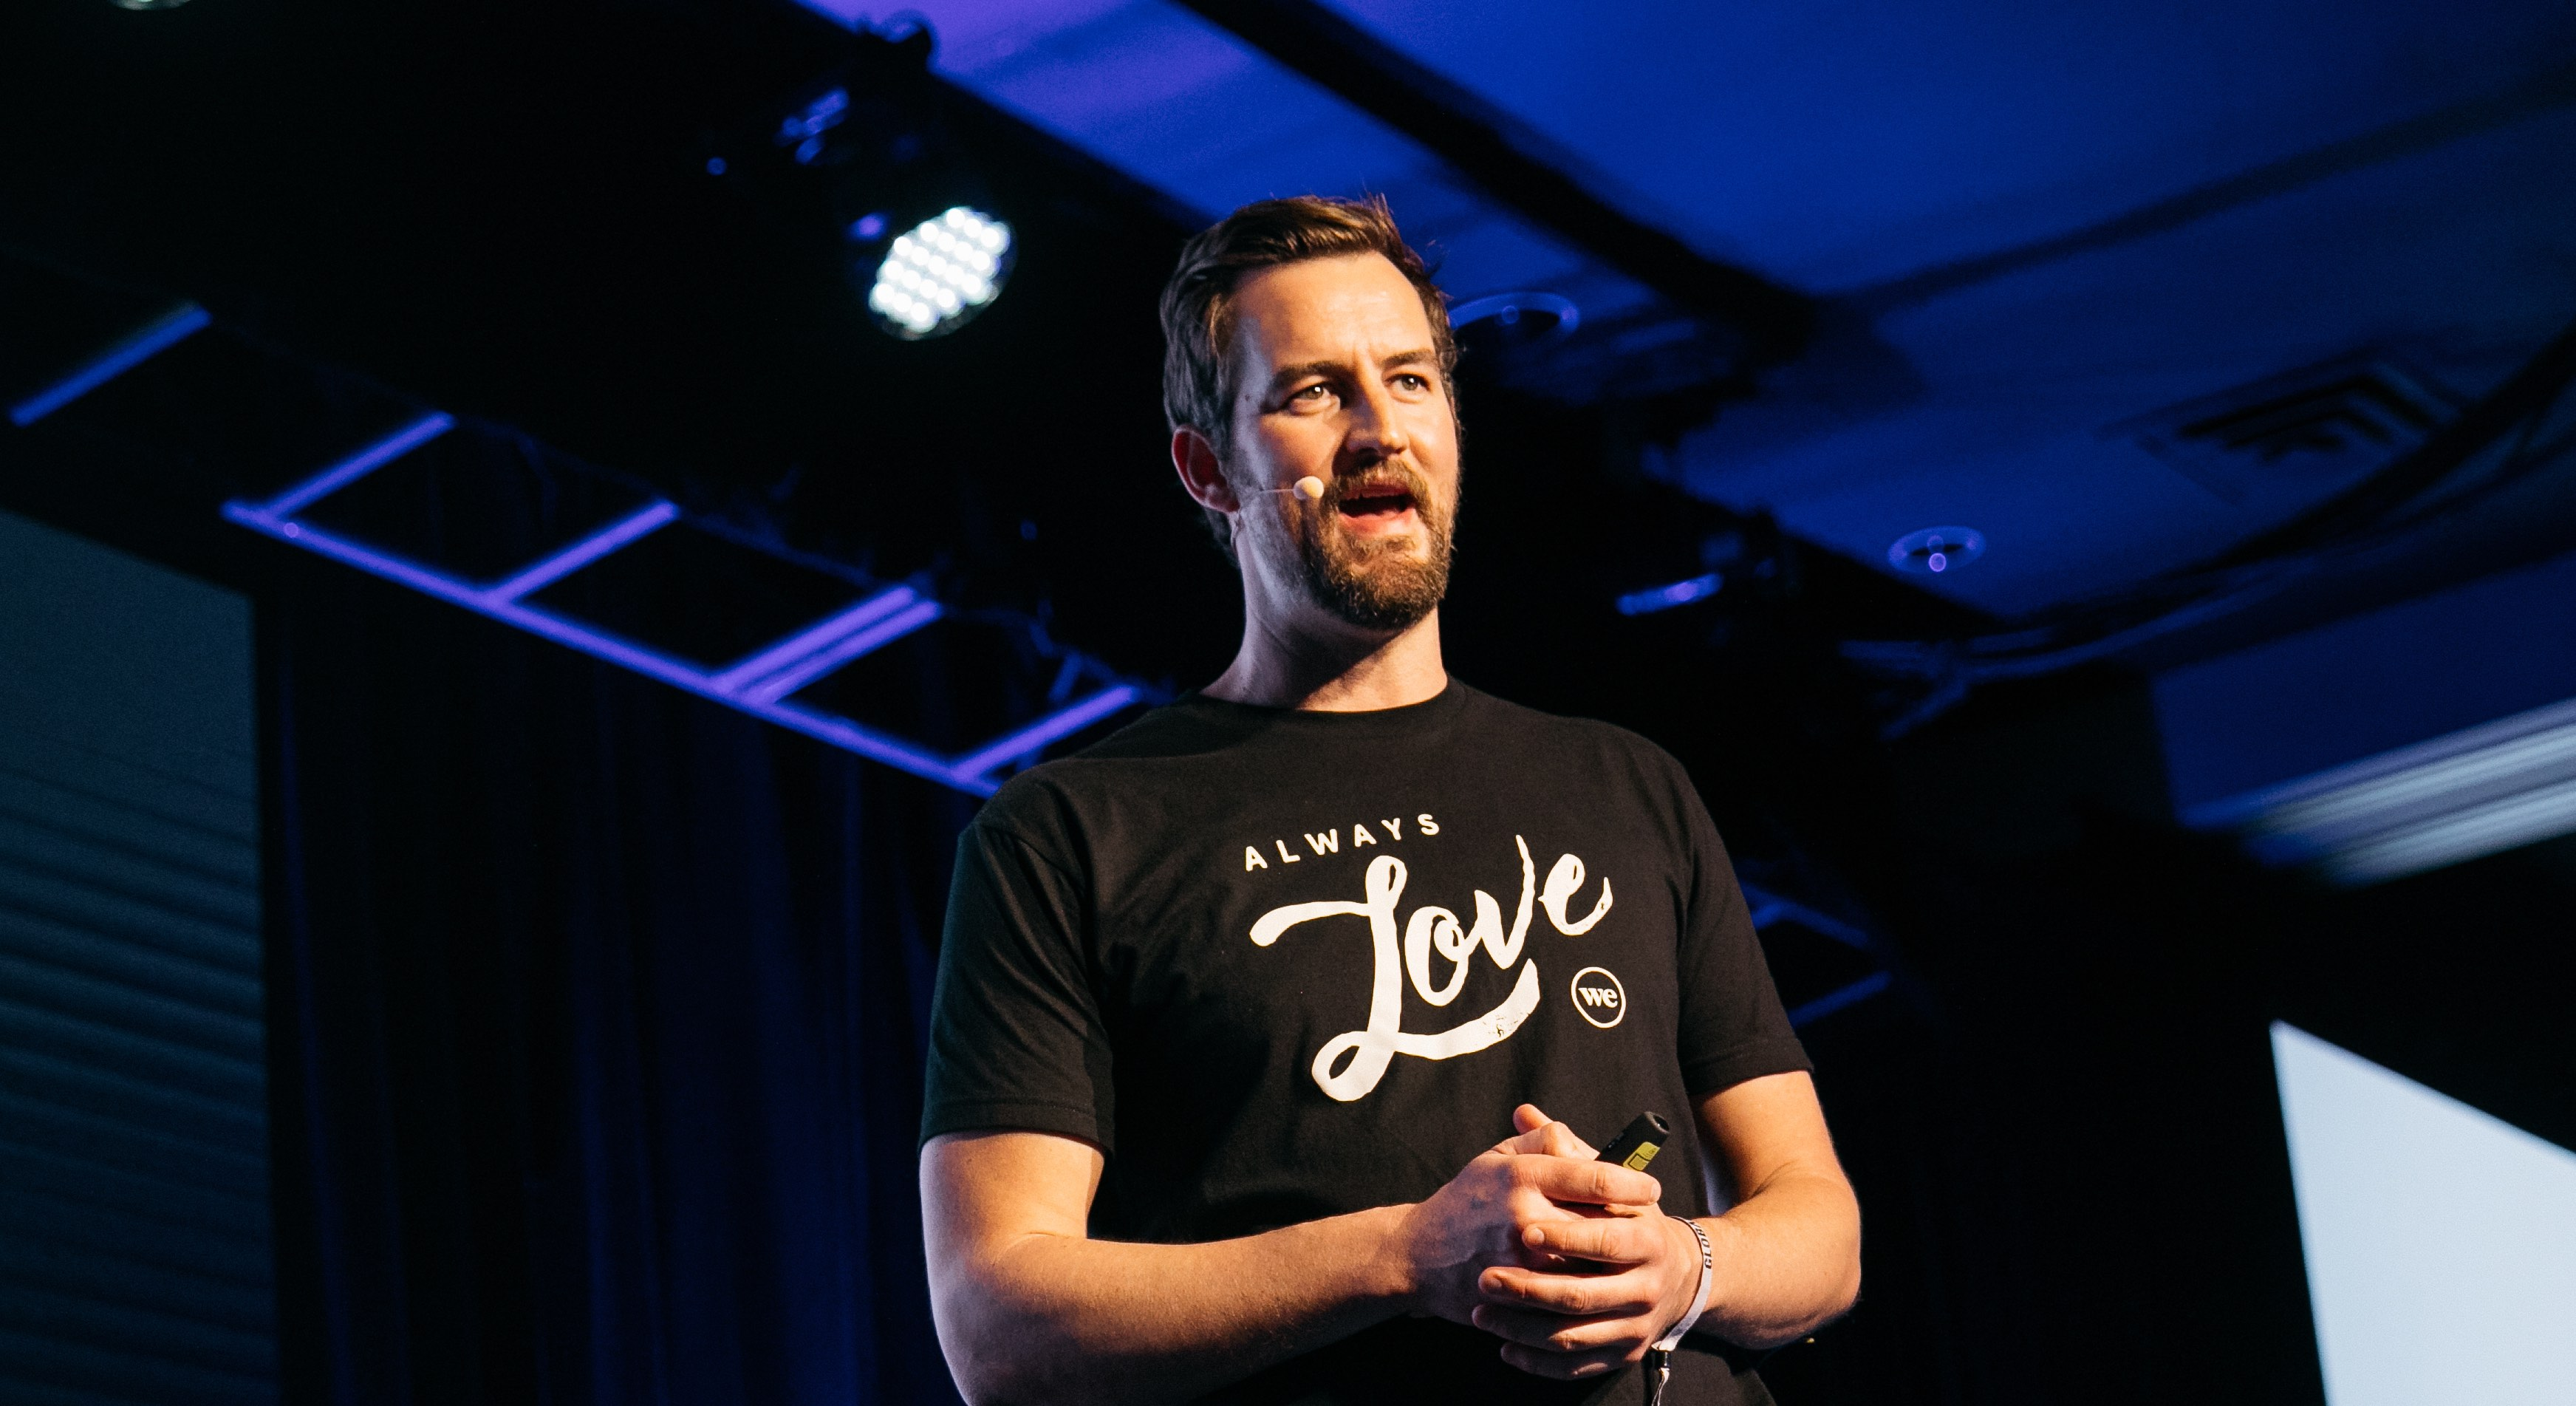wework: (1568, 964, 1629, 1030)
